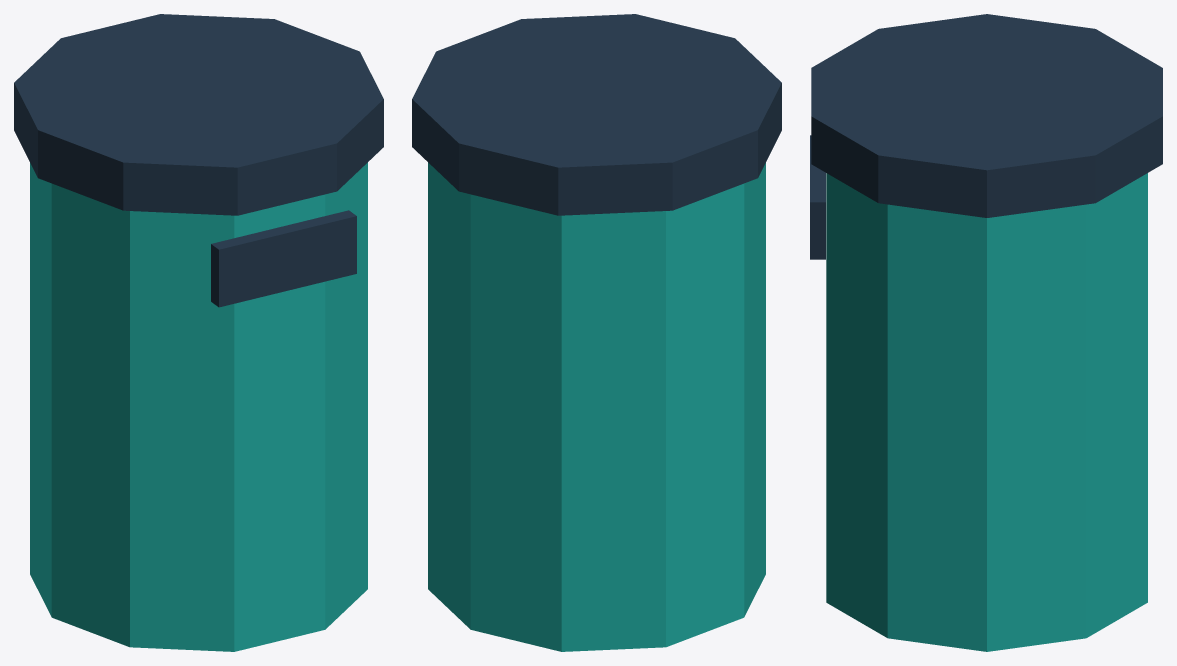
The model's file is 16_trash_bin.obj.
3 renders of one model, left to right at view 1: azimuth 30°, elevation 25°; view 2: azimuth 150°, elevation 25°; view 3: azimuth 270°, elevation 25°, orthographic.
Visible parts, largest first — view 1: part_0, part_1, part_2; view 2: part_0, part_1; view 3: part_0, part_1, part_2.
Boxes of the visible parts, x1,y1,x2,y2 form: part_0: (30,162,367,651); part_1: (14,14,383,215); part_2: (211,210,356,307); part_0: (428,162,765,651); part_1: (412,14,781,215); part_0: (826,173,1147,651); part_1: (811,14,1162,217); part_2: (810,135,825,259).
Bounding box in the file's own units: 0.7 × 1.02 × 0.6679.
